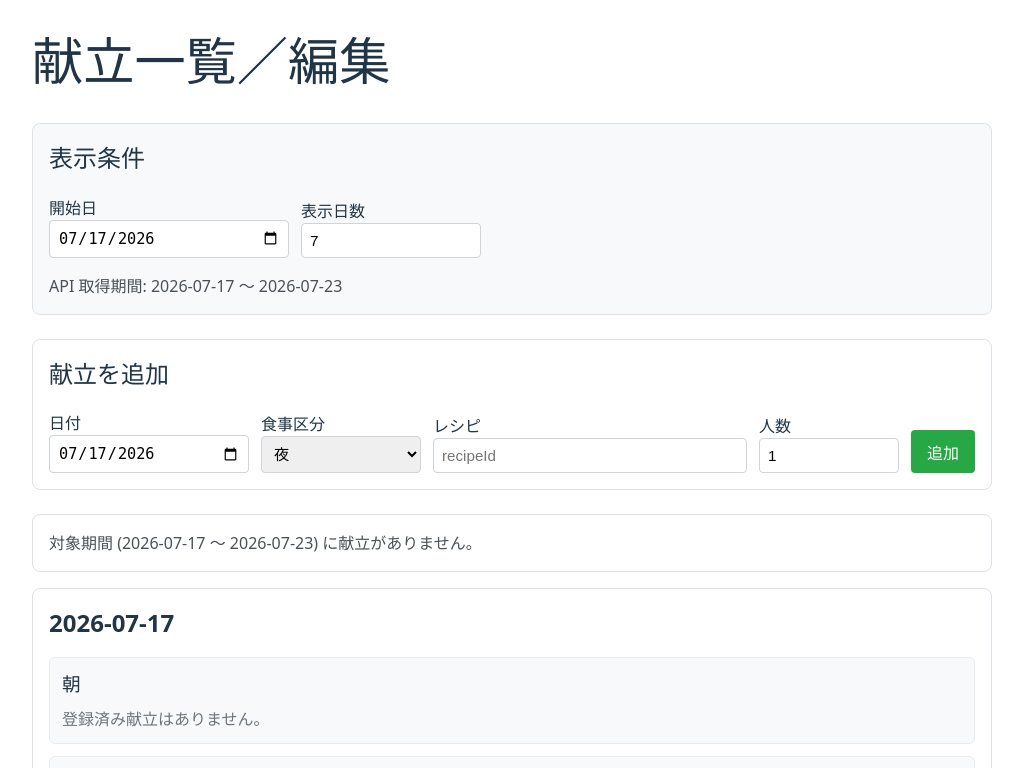
Test: MenusPage › 表示日数を1日から30日の範囲へ補正する
Replace the text in the number field labelled "表示日数" with "0" at (391, 240), box [301,222,481,258]
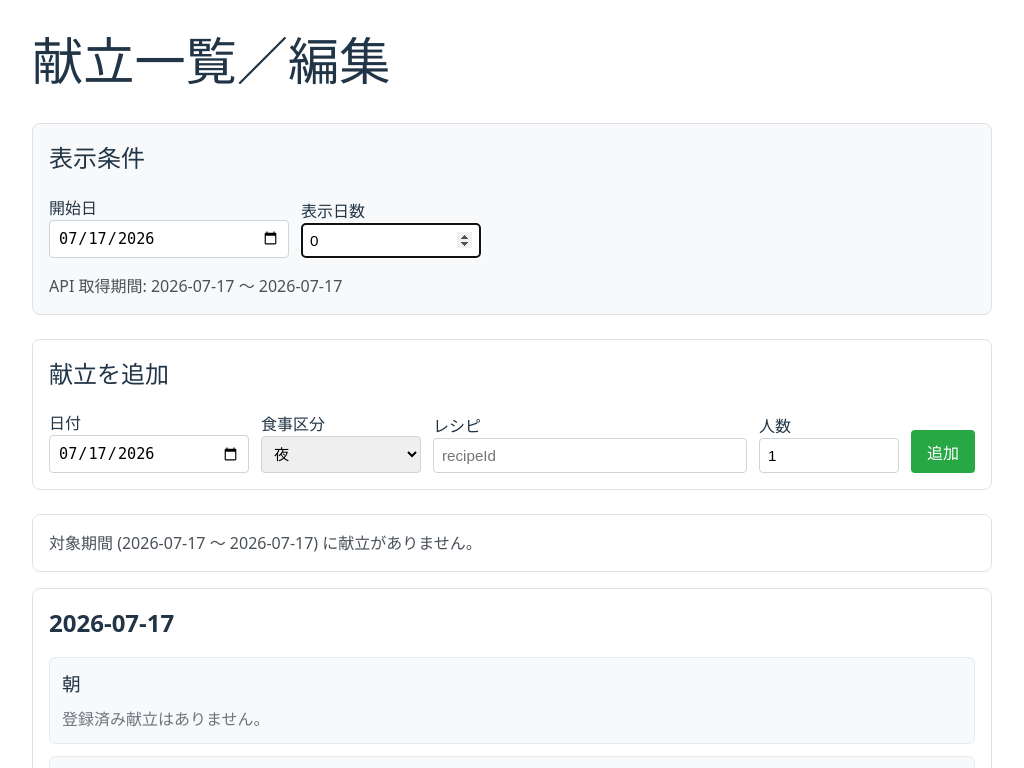
Press Tab
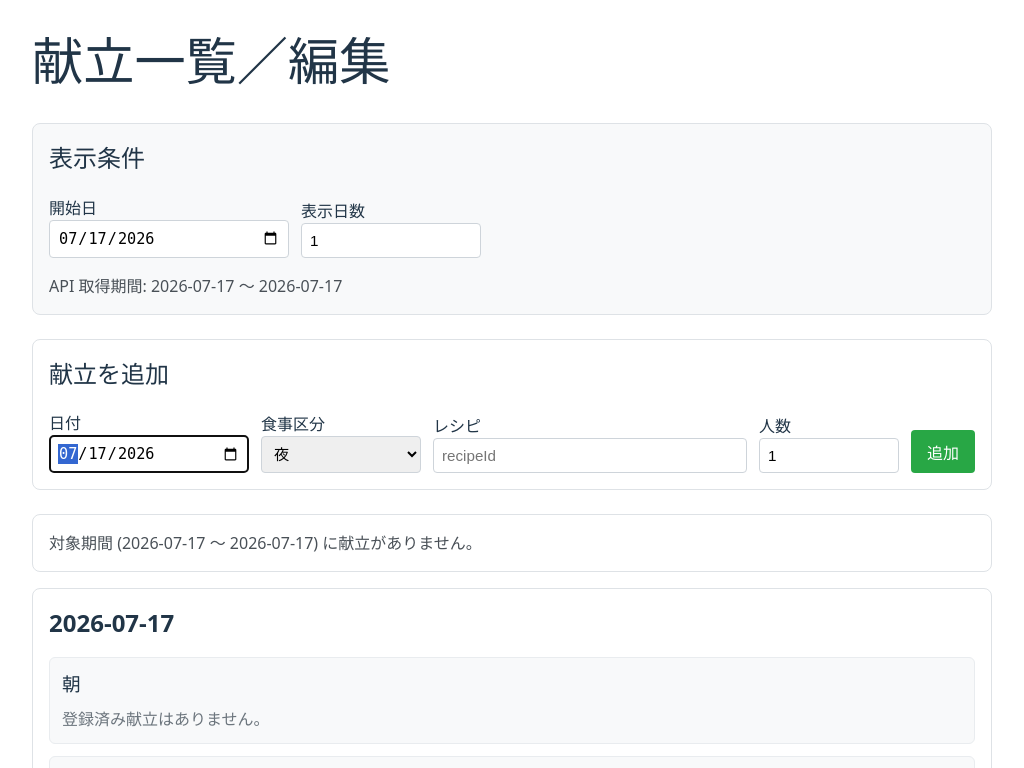
Expected: the number field labelled "表示日数" holds "1", [301,222,481,258]
